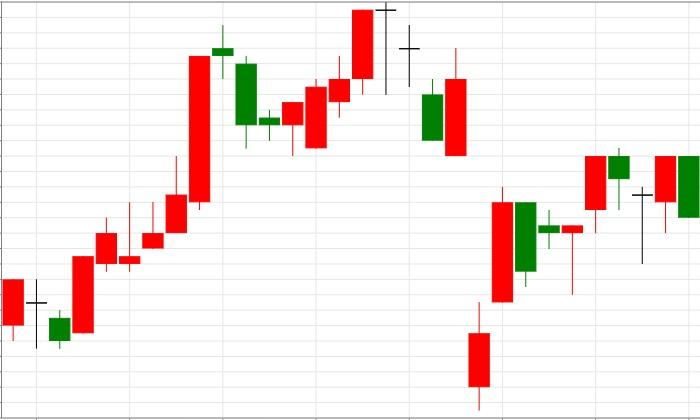evening_star_fall: (72, 25, 256, 334)
